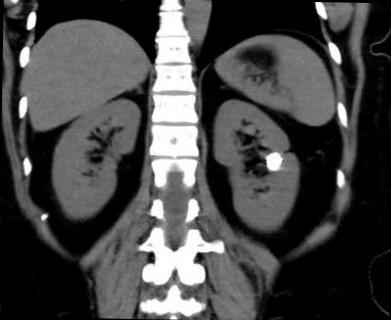Tas_Var: (262, 152, 284, 172)
